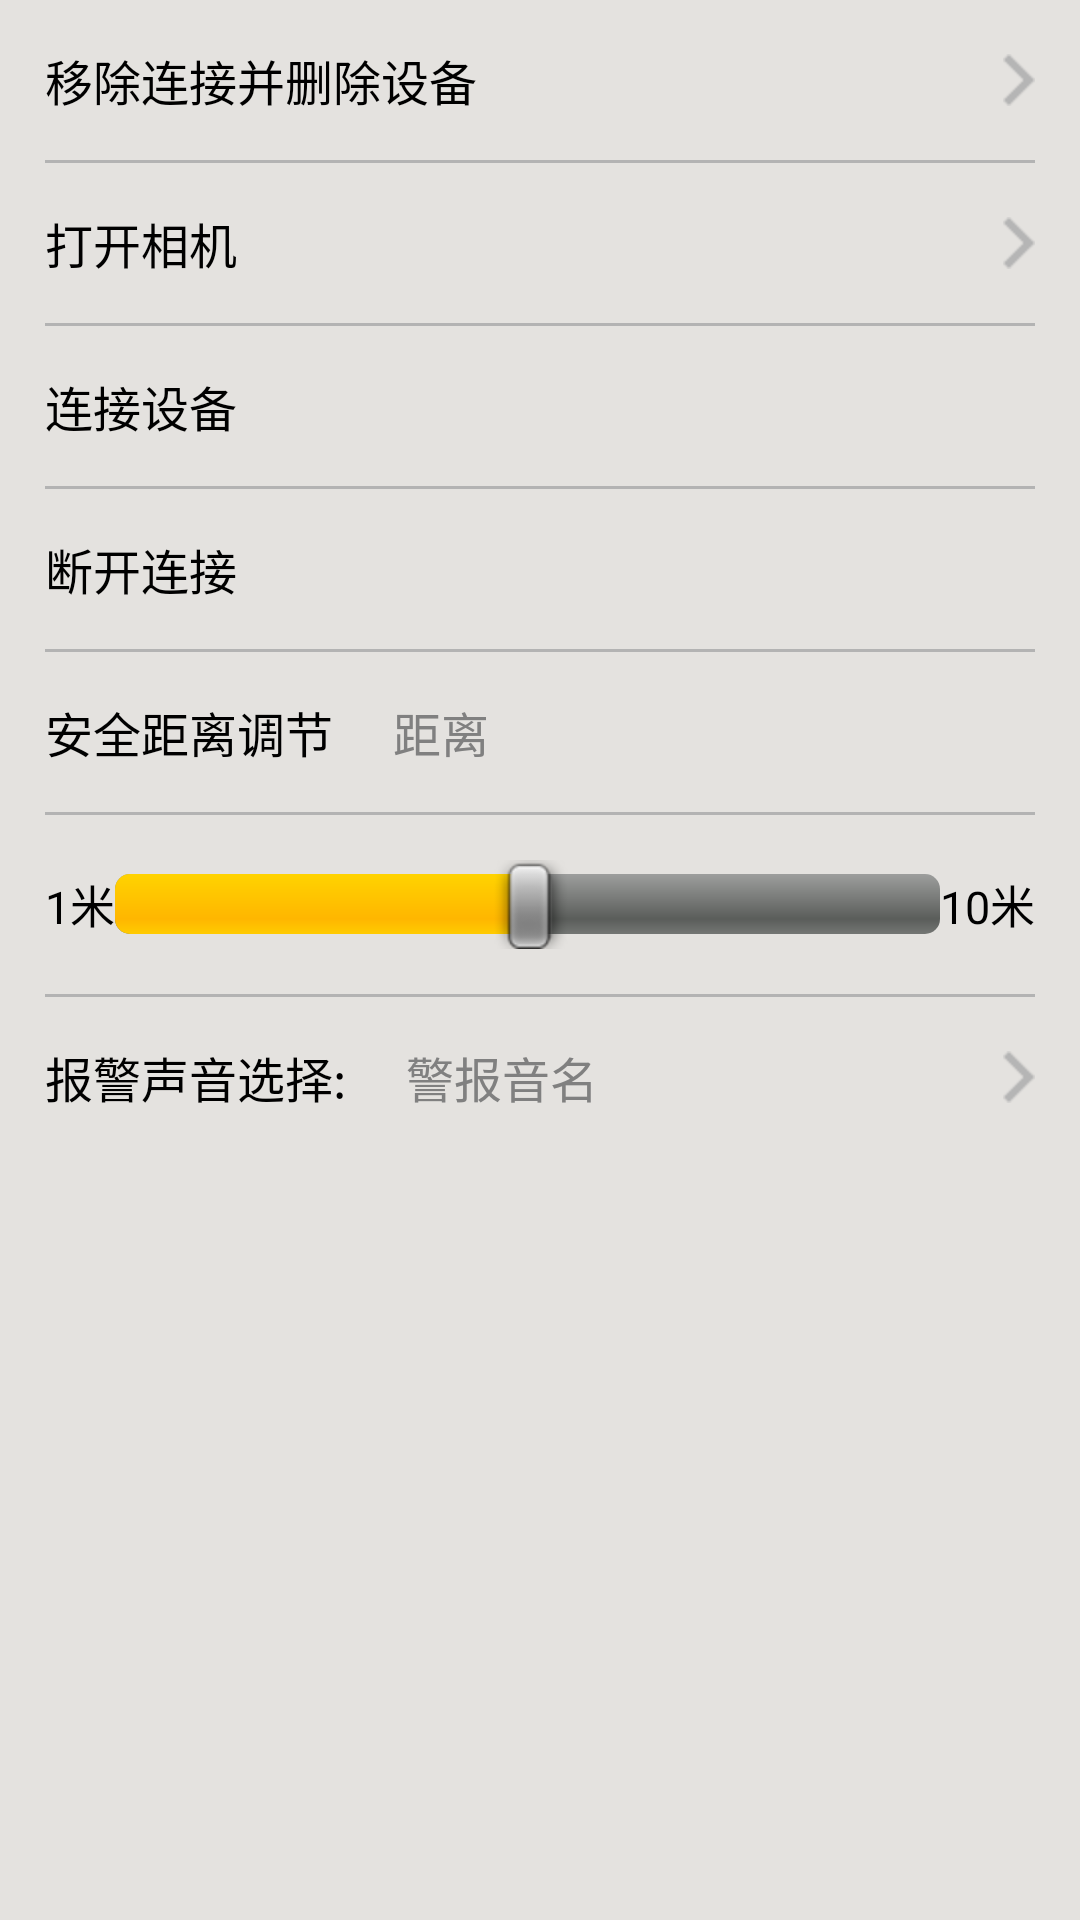

Named icons in this screenshot (1080x1920) and their centers, (x,y):
youjiantou: (1019,80), (1019,243), (1019,1077)
